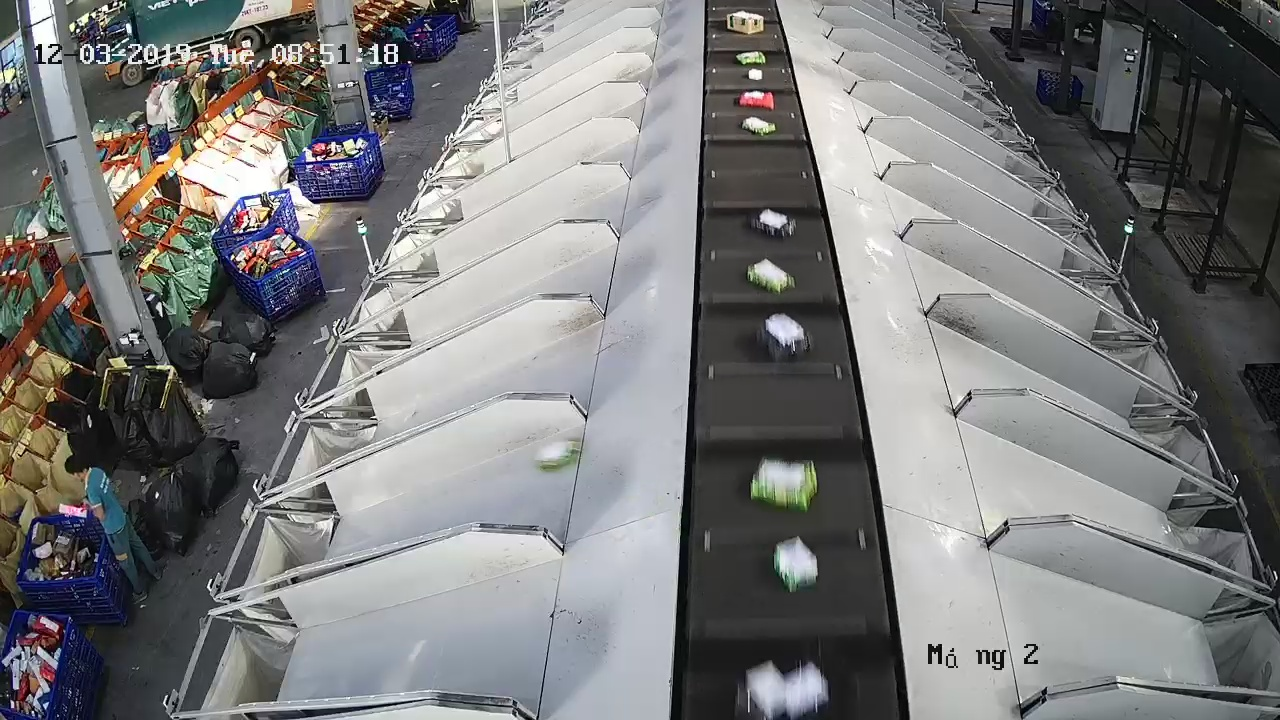parcel: (748, 454, 820, 515), (754, 311, 815, 364), (772, 534, 820, 595), (745, 257, 796, 297), (748, 206, 798, 240), (533, 438, 581, 472), (739, 114, 777, 137)
